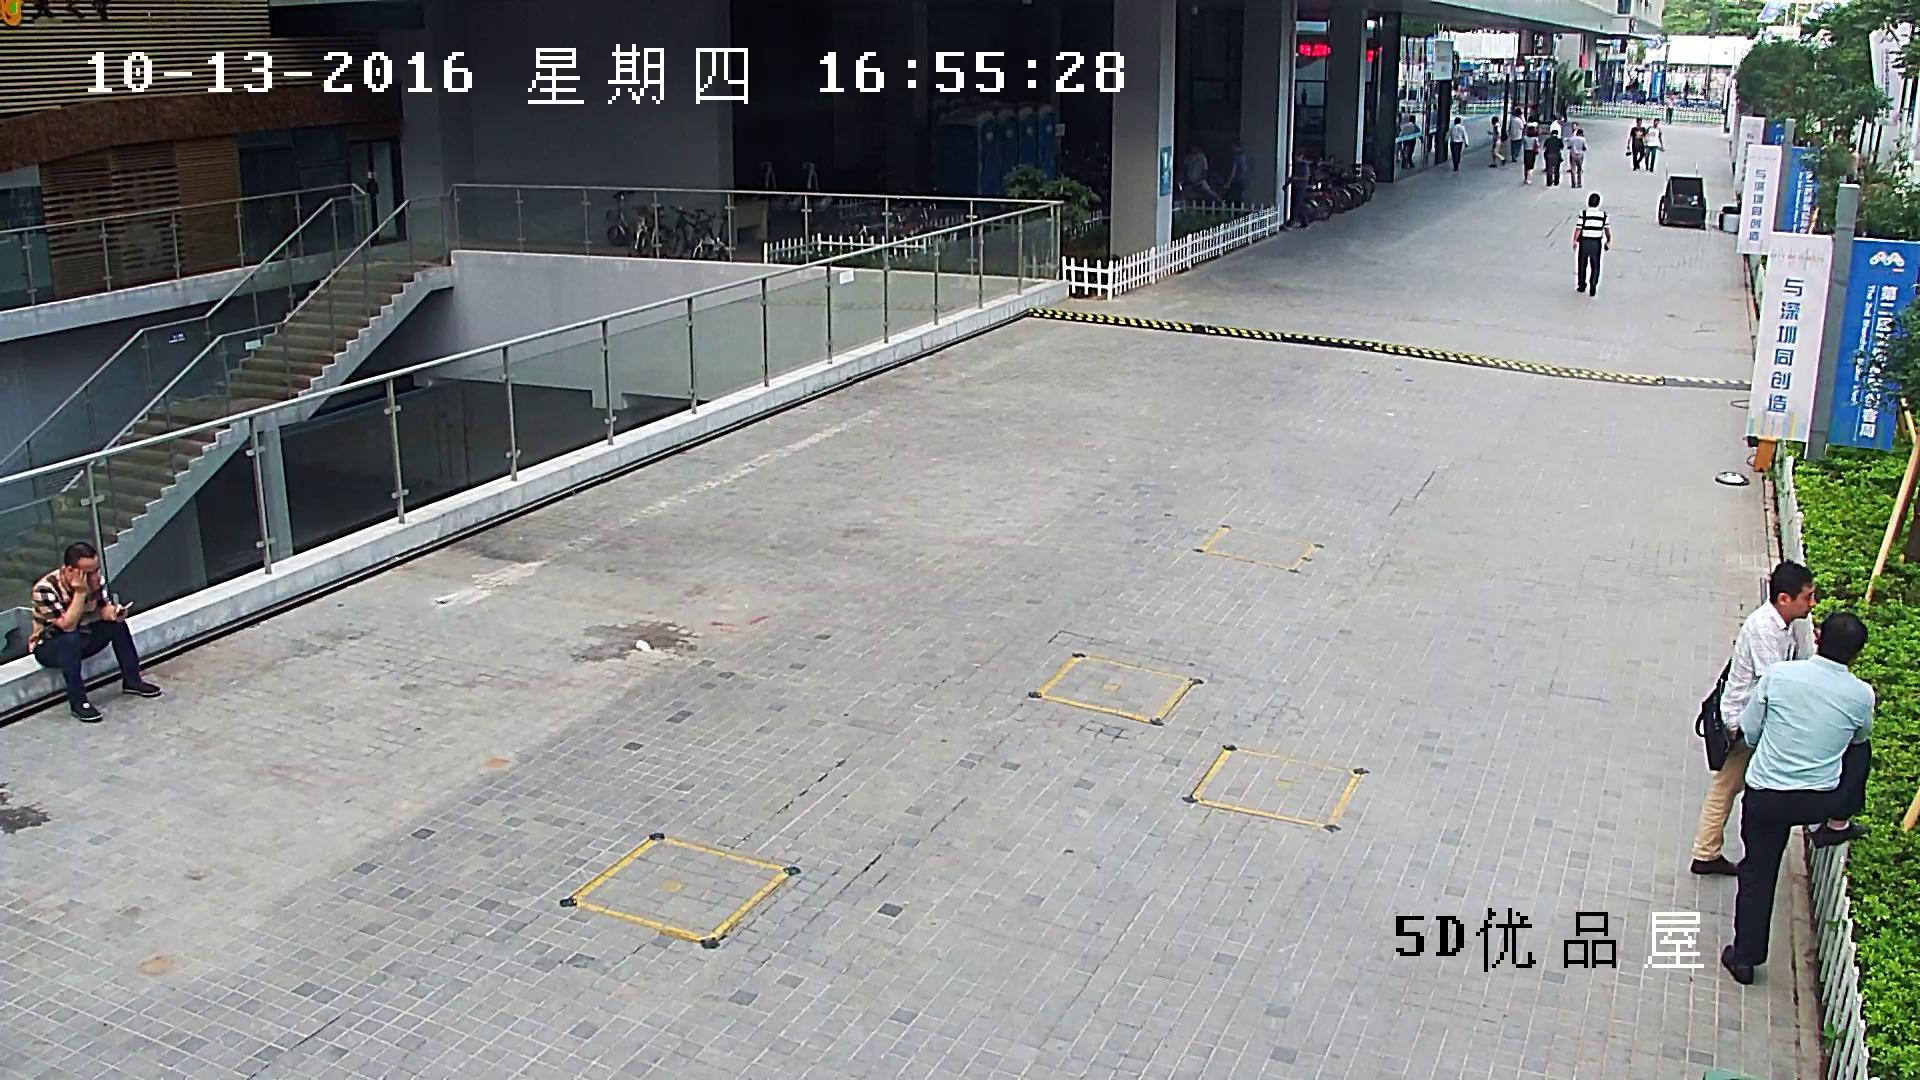person: (1721, 612, 1874, 983), (1689, 558, 1817, 876), (27, 541, 163, 722), (1571, 191, 1611, 295), (1282, 148, 1309, 229), (1222, 141, 1246, 208), (1444, 117, 1469, 170), (1625, 117, 1647, 171), (1566, 128, 1587, 187), (1400, 115, 1421, 167), (1182, 143, 1208, 183), (1543, 115, 1561, 172), (1544, 130, 1563, 186), (1488, 116, 1507, 168), (1645, 118, 1663, 172), (1523, 125, 1537, 183), (1509, 108, 1523, 162), (1428, 103, 1438, 152), (1560, 95, 1567, 122), (1666, 95, 1672, 123)
